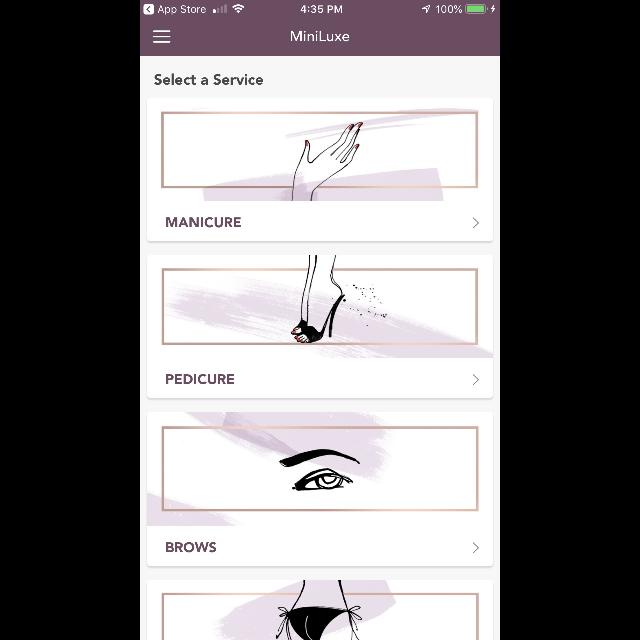icon: (154, 31, 170, 44), (473, 374, 479, 386), (473, 542, 479, 554), (473, 218, 479, 228)
image: (148, 412, 478, 526), (162, 256, 492, 358), (162, 108, 478, 202), (162, 580, 478, 640)
text: (154, 73, 264, 85), (166, 216, 242, 228), (291, 30, 349, 42), (166, 374, 234, 384), (166, 542, 216, 552)
uppertaskbar: (140, 1, 500, 15)
